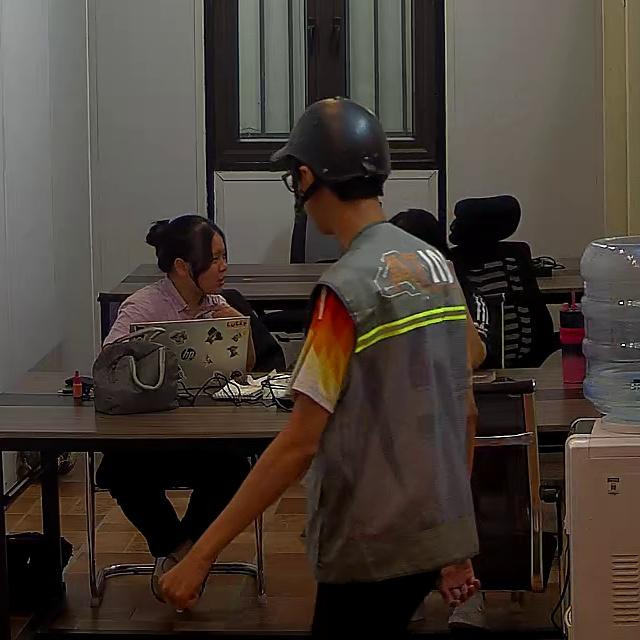helmet: (268, 96, 393, 193)
no_helmet: (147, 215, 224, 275)
none: (102, 278, 234, 352)
vest: (304, 223, 474, 580)
